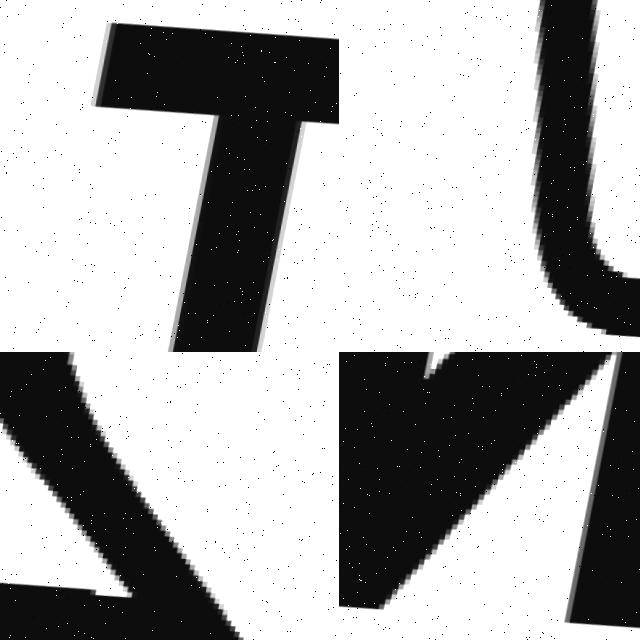2: (0, 352, 339, 640)
J: (444, 0, 640, 352)
N: (339, 352, 640, 640)
T: (11, 0, 339, 352)
